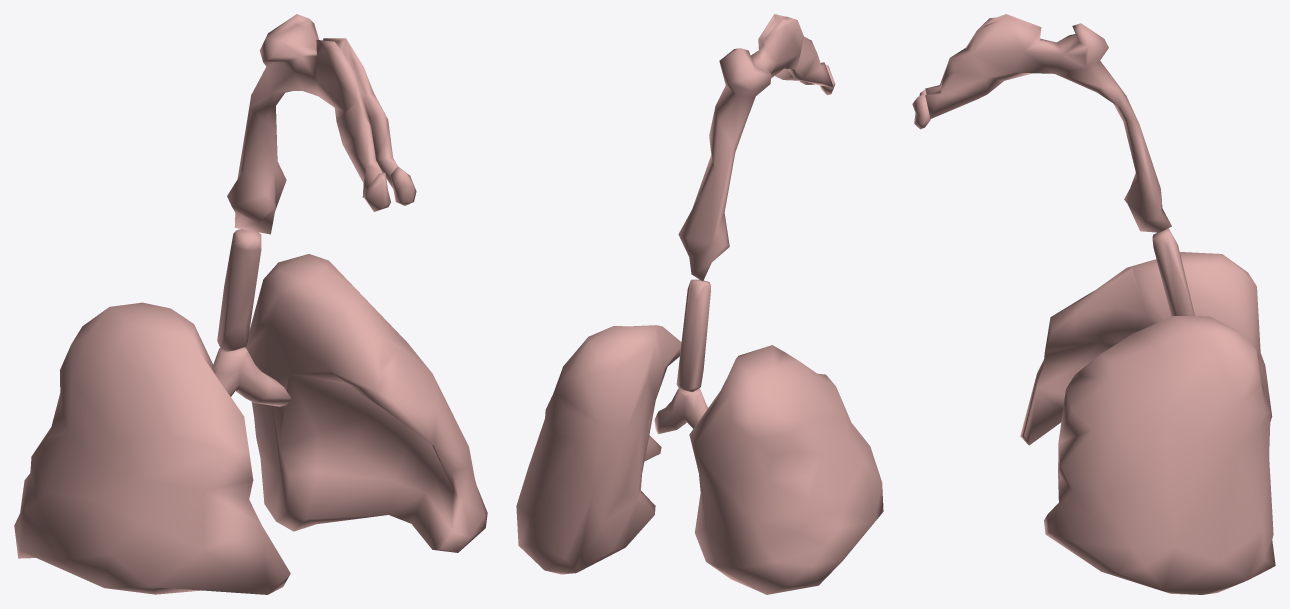
The model's file is pediatric_neonate_male.respiratory.LOD3.glb.
3 renders of one model, left to right at view 1: azimuth 30°, elevation 25°; view 2: azimuth 150°, elevation 25°; view 3: azimuth 270°, elevation 25°, orthographic. The views are drawn at different scales.
Visible parts, largest first — view 1: PEDIATRIC.NEONATE.MALE.RESPIRATORY.LUNG.R, PEDIATRIC.NEONATE.MALE.RESPIRATORY.LUNG.L, PEDIATRIC.NEONATE.MALE.RESPIRATORY.ET2, PEDIATRIC.NEONATE.MALE.RESPIRATORY.TRACHEA, PEDIATRIC.NEONATE.MALE.RESPIRATORY.BB1, PEDIATRIC.NEONATE.MALE.RESPIRATORY.ET1; view 2: PEDIATRIC.NEONATE.MALE.RESPIRATORY.LUNG.R, PEDIATRIC.NEONATE.MALE.RESPIRATORY.LUNG.L, PEDIATRIC.NEONATE.MALE.RESPIRATORY.ET2, PEDIATRIC.NEONATE.MALE.RESPIRATORY.TRACHEA, PEDIATRIC.NEONATE.MALE.RESPIRATORY.BB1; view 3: PEDIATRIC.NEONATE.MALE.RESPIRATORY.LUNG.L, PEDIATRIC.NEONATE.MALE.RESPIRATORY.LUNG.R, PEDIATRIC.NEONATE.MALE.RESPIRATORY.ET2, PEDIATRIC.NEONATE.MALE.RESPIRATORY.TRACHEA, PEDIATRIC.NEONATE.MALE.RESPIRATORY.ET1.
Part boxes in pixels (bbox=[...]): PEDIATRIC.NEONATE.MALE.RESPIRATORY.LUNG.R: bbox=[14, 302, 290, 594]; PEDIATRIC.NEONATE.MALE.RESPIRATORY.LUNG.L: bbox=[245, 254, 487, 552]; PEDIATRIC.NEONATE.MALE.RESPIRATORY.ET2: bbox=[227, 14, 397, 234]; PEDIATRIC.NEONATE.MALE.RESPIRATORY.TRACHEA: bbox=[217, 229, 261, 351]; PEDIATRIC.NEONATE.MALE.RESPIRATORY.BB1: bbox=[213, 347, 290, 406]; PEDIATRIC.NEONATE.MALE.RESPIRATORY.ET1: bbox=[364, 166, 416, 211]; PEDIATRIC.NEONATE.MALE.RESPIRATORY.LUNG.R: bbox=[689, 345, 883, 594]; PEDIATRIC.NEONATE.MALE.RESPIRATORY.LUNG.L: bbox=[516, 325, 681, 574]; PEDIATRIC.NEONATE.MALE.RESPIRATORY.ET2: bbox=[678, 14, 833, 281]; PEDIATRIC.NEONATE.MALE.RESPIRATORY.TRACHEA: bbox=[676, 279, 710, 392]; PEDIATRIC.NEONATE.MALE.RESPIRATORY.BB1: bbox=[654, 388, 708, 434]; PEDIATRIC.NEONATE.MALE.RESPIRATORY.LUNG.L: bbox=[1044, 316, 1275, 594]; PEDIATRIC.NEONATE.MALE.RESPIRATORY.LUNG.R: bbox=[1020, 252, 1272, 445]; PEDIATRIC.NEONATE.MALE.RESPIRATORY.ET2: bbox=[925, 14, 1171, 232]; PEDIATRIC.NEONATE.MALE.RESPIRATORY.TRACHEA: bbox=[1152, 228, 1194, 316]; PEDIATRIC.NEONATE.MALE.RESPIRATORY.ET1: bbox=[912, 89, 930, 129].
Bounding box in the file's own units: 0.0957 × 0.1339 × 0.0876.
